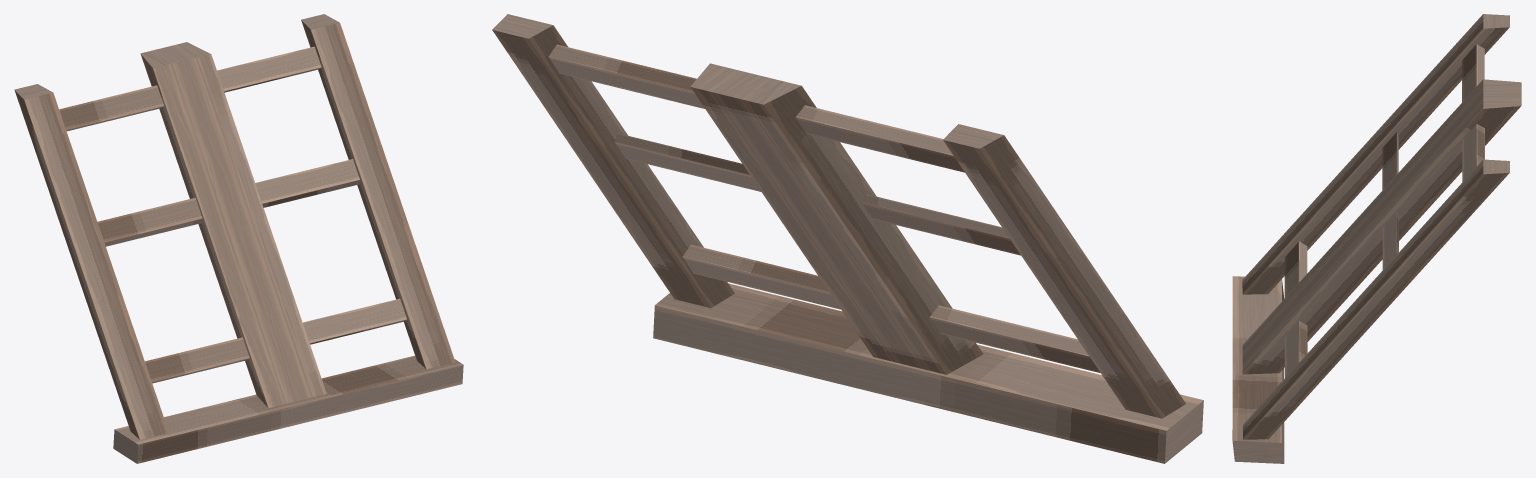
Rendered from SM_RoofPoles_Bottom.fbx.
3 views of the same model, side by side, from view 1: azimuth 30°, elevation 25°; view 2: azimuth 150°, elevation 25°; view 3: azimuth 270°, elevation 25° (orthographic). The views are drawn at different scales.
Parts seen in each view (by area): view 1: SM_RoofPoles_Bottom_LOD0; view 2: SM_RoofPoles_Bottom_LOD0; view 3: SM_RoofPoles_Bottom_LOD0.
Boxes of the visible parts, bbox=[...] form: SM_RoofPoles_Bottom_LOD0: bbox=[14, 14, 463, 463]; SM_RoofPoles_Bottom_LOD0: bbox=[492, 14, 1203, 463]; SM_RoofPoles_Bottom_LOD0: bbox=[1232, 14, 1521, 463].
Bounding box in the file's own units: 795 × 588 × 647.
